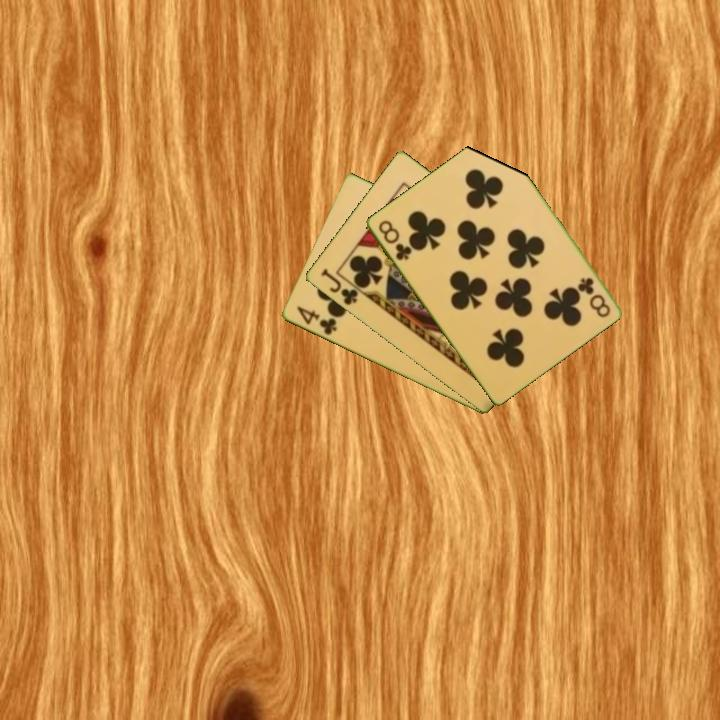4c: (292, 303, 340, 338)
8c: (374, 216, 414, 263), (574, 274, 613, 320)
Jc: (317, 265, 367, 308)
